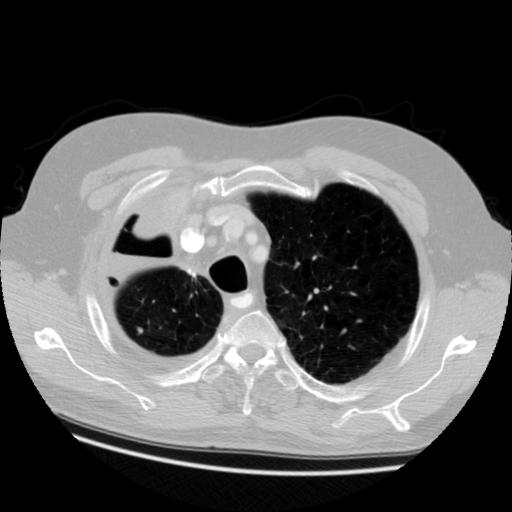nodule: (134, 324, 147, 337)
